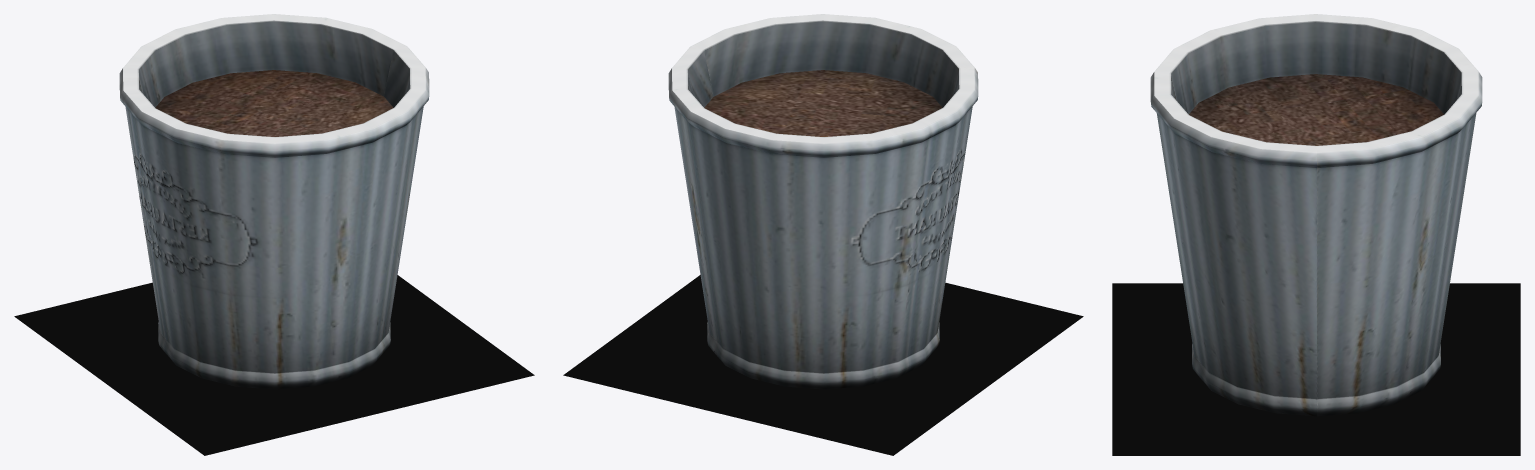
The model's file is huapen_003.FBX.
3 renders of one model, left to right at view 1: azimuth 30°, elevation 25°; view 2: azimuth 150°, elevation 25°; view 3: azimuth 270°, elevation 25°, orthographic. The views are drawn at different scales.
Visible parts, largest first — view 1: huapen_003_01, huapen_003_02; view 2: huapen_003_01, huapen_003_02; view 3: huapen_003_01, huapen_003_02.
Boxes of the visible parts, bbox=[...] form: huapen_003_01: bbox=[119, 14, 429, 389]; huapen_003_02: bbox=[14, 275, 534, 455]; huapen_003_01: bbox=[668, 14, 978, 389]; huapen_003_02: bbox=[563, 275, 1083, 455]; huapen_003_01: bbox=[1150, 14, 1482, 416]; huapen_003_02: bbox=[1112, 283, 1520, 455].
Size of the model in its own units: 501 by 387 by 501.
